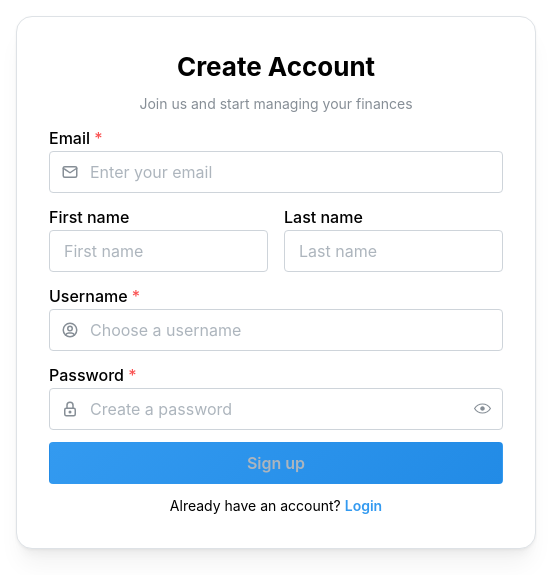
Test: Signup page › disables submit button when required fields are empty
Check: the button "Sign up" is disabled, box [49, 442, 503, 484]
Type "test@example.com" into the field labelled "Email *". click: x=276, y=172
box: [49, 151, 503, 193]
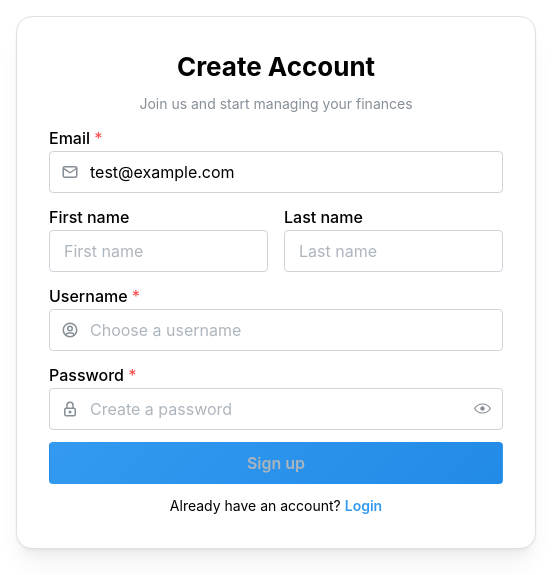
Check: the button "Sign up" is disabled, box [49, 442, 503, 484]
Type "testuser" into the field labelled "Username *". click: x=276, y=330
box: [49, 309, 503, 351]
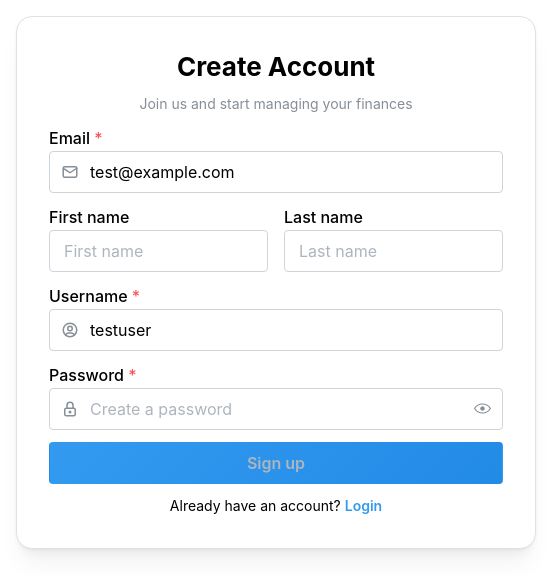
Check: the button "Sign up" is disabled, box [49, 442, 503, 484]
Type "password123" into the password field labelled "Password *". click: x=276, y=409
box: [50, 389, 502, 429]
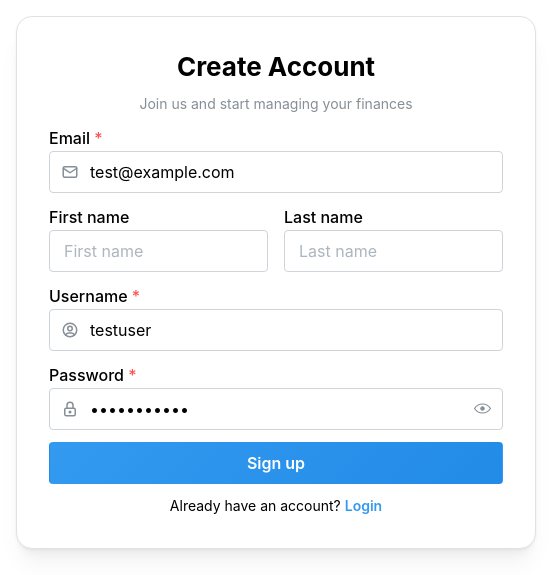
Check: the button "Sign up" is enabled, box [49, 442, 503, 484]
